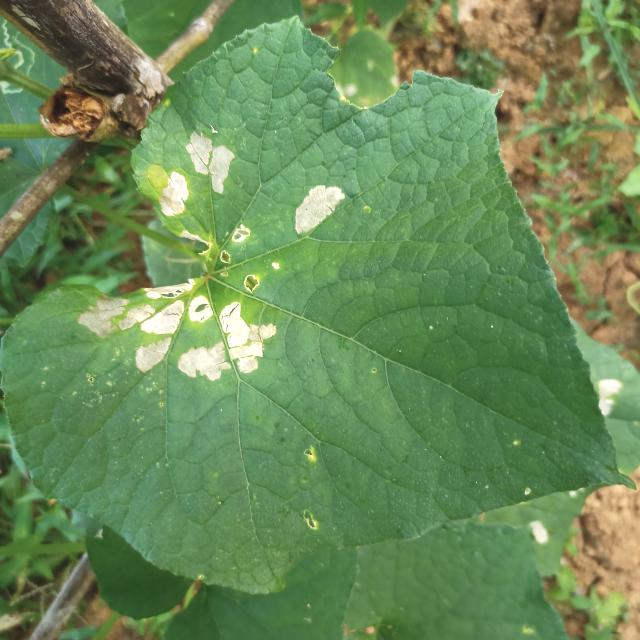disease_cucumber: (76, 268, 278, 383), (185, 125, 237, 195), (292, 182, 346, 238), (215, 220, 254, 268), (157, 170, 193, 221)
